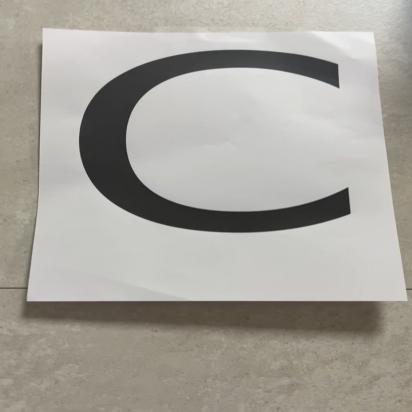seat: (56, 25, 384, 287)
